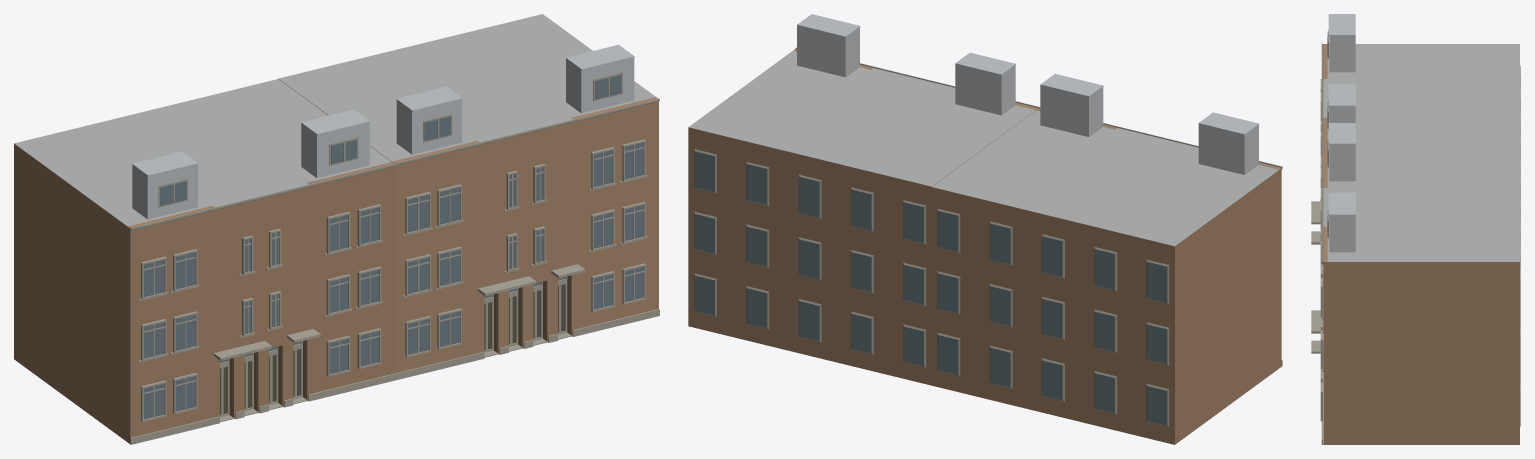
Rendered from chunk-face-callenburg-2-32-r1.glb.
3 views of the same model, side by side, from view 1: azimuth 30°, elevation 25°; view 2: azimuth 150°, elevation 25°; view 3: azimuth 270°, elevation 25° (orthographic). The views are drawn at different scales.
Parts seen in each view (by area): view 1: face-callenburg-2-32-r1; view 2: face-callenburg-2-32-r1; view 3: face-callenburg-2-32-r1.
Part boxes in pixels (x1,y1,x2,y2): face-callenburg-2-32-r1: (14,14,659,444); face-callenburg-2-32-r1: (688,14,1282,444); face-callenburg-2-32-r1: (1311,14,1520,444).
Size of the model in its own units: 25.62 by 12.12 by 10.39.
